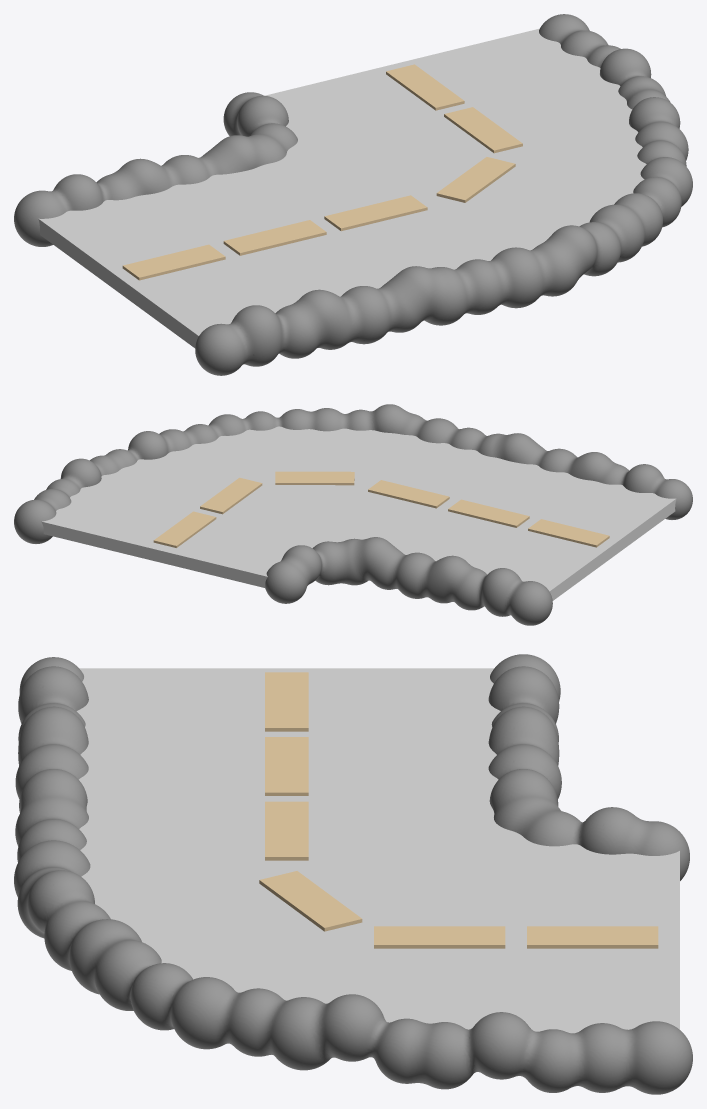
The model's file is RoadRound.fbx.
The picture shows the model from 3 angles, top to bottom: view 1: azimuth 30°, elevation 25°; view 2: azimuth 150°, elevation 25°; view 3: azimuth 270°, elevation 25°; orthographic projection. The views are drawn at different scales.
Visible parts, largest first — view 1: Plane, Mball, Plane.003, Plane.004, Plane.005, Plane.006, Plane.002, Plane.001; view 2: Plane, Mball, Plane.006, Plane.005, Plane.004, Plane.003, Plane.001, Plane.002; view 3: Plane, Mball, Plane.001, Plane.002, Plane.006, Plane.005, Plane.003, Plane.004.
Boxes of the visible parts, x1,y1,x2,y2 form: Plane: (38,28,646,348); Mball: (14,14,692,375); Plane.003: (324,195,427,231); Plane.004: (223,220,326,255); Plane.005: (122,244,225,280); Plane.006: (436,157,515,202); Plane.002: (444,107,522,153); Plane.001: (386,64,464,110); Plane: (41,426,676,600); Mball: (14,404,692,625); Plane.006: (275,471,354,485); Plane.005: (528,519,609,547); Plane.004: (448,499,529,527); Plane.003: (368,480,449,508); Plane.001: (153,511,216,547); Plane.002: (200,477,262,514); Plane: (76,668,679,1033); Mball: (14,654,692,1094); Plane.001: (527,926,658,948); Plane.002: (374,926,505,948); Plane.006: (259,871,362,931); Plane.005: (265,672,308,731); Plane.003: (265,801,308,860); Plane.004: (265,737,308,795).
Size of the model in its own units: 864 by 81.14 by 622.
